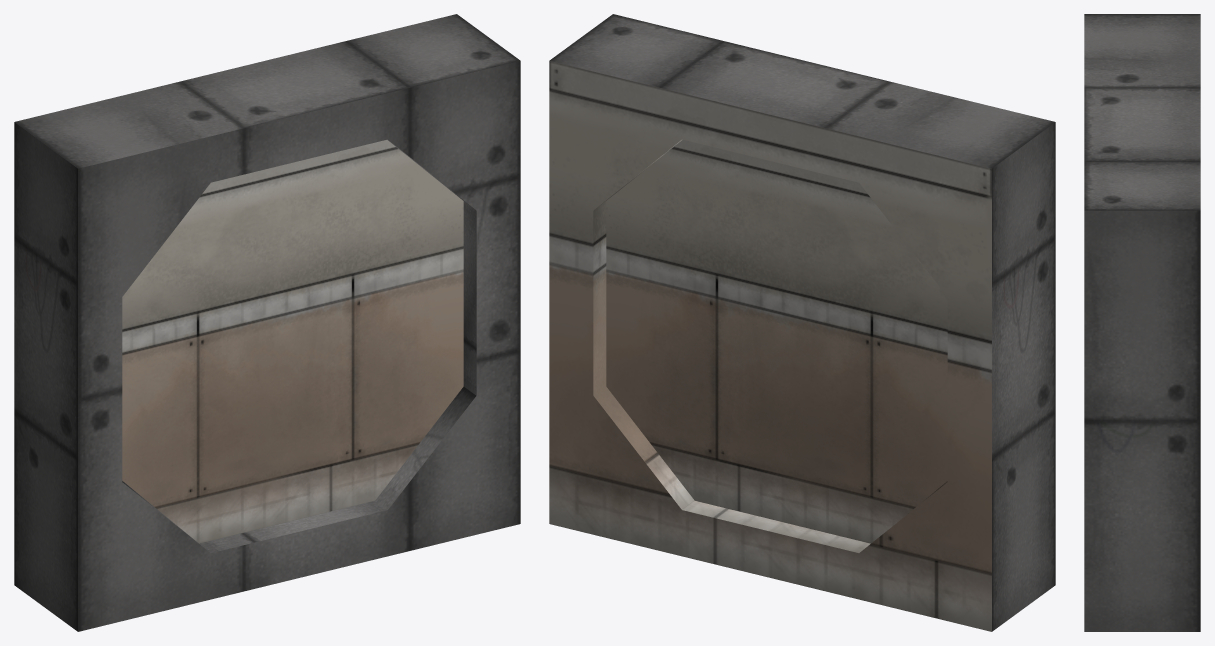
Rendered from surfacewindow_single.obj.
3 renders of one model, left to right at view 1: azimuth 30°, elevation 25°; view 2: azimuth 150°, elevation 25°; view 3: azimuth 270°, elevation 25°, orthographic. The views are drawn at different scales.
Visible parts, largest first — view 1: surfacewindow_single_surfacewindow_single_mesh; view 2: surfacewindow_single_surfacewindow_single_mesh; view 3: surfacewindow_single_surfacewindow_single_mesh.
Boxes of the visible parts, x1,y1,x2,y2 form: surfacewindow_single_surfacewindow_single_mesh: [14, 14, 520, 631]; surfacewindow_single_surfacewindow_single_mesh: [549, 14, 1055, 631]; surfacewindow_single_surfacewindow_single_mesh: [1084, 14, 1200, 631].
Size of the model in its own units: 1 by 1 by 0.25.
